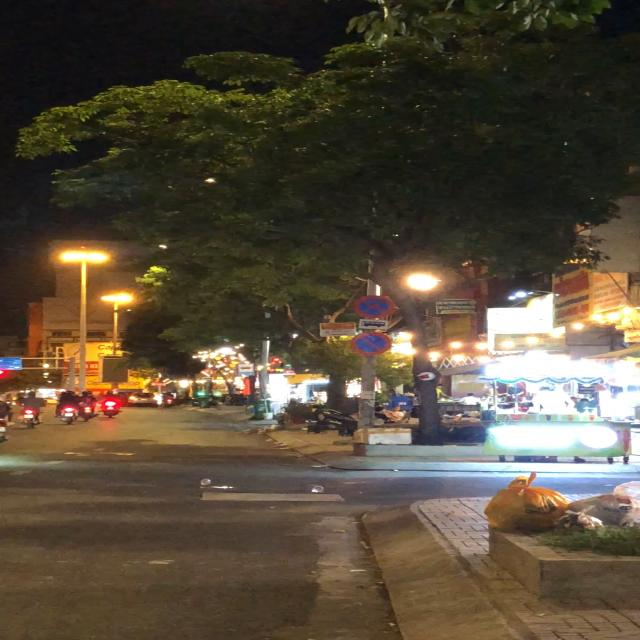Bien bao cam do xe: (349, 332, 394, 357)
Bien bao cam dung xe va do xe: (351, 295, 393, 319)
